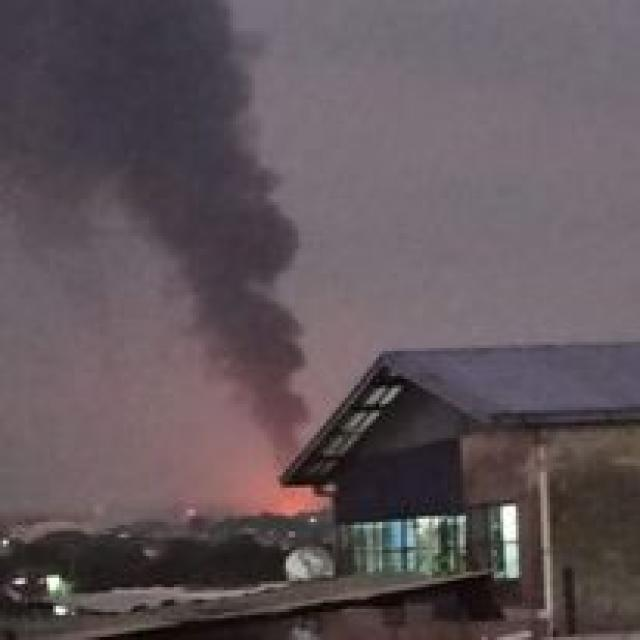Fire: (263, 468, 332, 518)
Smoke: (0, 0, 311, 466)
